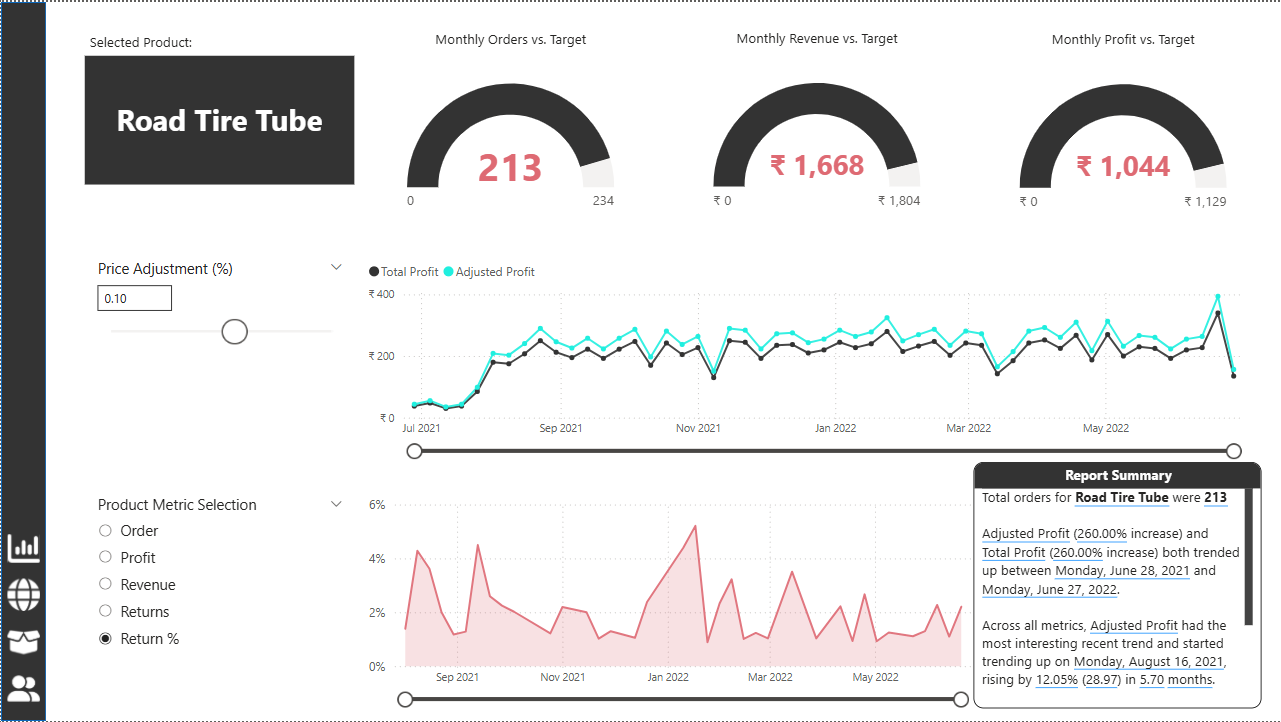

The dashboard page shown, as its layout file describes it:
{"tool":"powerbi","page":{"name":"Product Detail","canvas":[1280,720],"ordinal":2},"visuals":[{"type":"shape","box":[0,0,45,720],"z":0},{"type":"actionButton","box":[0,526.4,45.4,40.5],"z":0,"group":"g1"},{"type":"gauge","title":"Monthly Orders vs. Target","fields":{"Y":["Measure Table.Total Order"],"MaxValue":["Measure Table.Order Target"]},"box":[401.2,27,217.2,222.1],"z":1000},{"type":"actionButton","box":[0,573,45.4,40.5],"z":1000,"group":"g1"},{"type":"gauge","title":"Monthly Revenue vs. Target","fields":{"Y":["Measure Table.Total Revenue"],"MaxValue":["Measure Table.Target Revenue"]},"box":[707.4,26.7,217.2,223.3],"z":2000},{"type":"actionButton","box":[0,619.7,45.4,40.5],"z":2000,"group":"g1"},{"type":"gauge","title":"Monthly Profit vs. Target","fields":{"Y":["Measure Table.Total Profit"],"MaxValue":["Measure Table.Profit Target"]},"box":[1013.5,27,217.2,223.3],"z":3000},{"type":"actionButton","box":[0,666.3,45.4,40.5],"z":3000,"group":"g1"},{"type":"lineChart","title":"Profit Trending","fields":{"Category":["Calendar Lookup.Date Hierarchy.Start of Year","Calendar Lookup.Date Hierarchy.Start of Month","Calendar Lookup.Date Hierarchy.Start of Week","Calendar Lookup.Date Hierarchy.Date"],"Y":["Measure Table.Total Profit","Measure Table.Adjusted Profit"]},"box":[362,250.3,899.4,209.8],"z":4000},{"type":"areaChart","title":"Return Trending","fields":{"Y":["Measure Table.Return Rate"],"Category":["Calendar Lookup.Date Hierarchy.Start of Year","Calendar Lookup.Date Hierarchy.Start of Month","Calendar Lookup.Date Hierarchy.Start of Week","Calendar Lookup.Date Hierarchy.Date"]},"box":[362,488.3,627,219.6],"z":5000},{"type":"card","fields":{"Values":["Min(Product Lookup.ProductName)"]},"box":[83.4,54,269.9,128.8],"z":6000},{"type":"textbox","box":[83.8,26.2,150,27.5],"z":7000},{"type":"slicer","fields":{"Values":["Price Adjustment (%).Price Adjustment (%)"]},"box":[83.8,251.2,270,150],"z":8000},{"type":"slicer","fields":{"Values":["Product Metric Selection.Product Metric Selection"]},"box":[83.8,487.5,270,221.2],"z":9000},{"type":"group","id":"g1","title":"Navigation Buttons","box":[0,526.4,45.4,180.4],"z":10000},{"type":"textbox","title":"Report Summary","box":[973,460.1,288.3,246.6],"z":11000}]}

Visuals, with their boxes on the page's 1280x720 design canvas (x1, y1, x2, y2). These are canvas units, not pixel positions in the 1281x722 screenshot, which may show the page scaled, cropped or inside an application window:
shape: <bbox>0, 0, 45, 720</bbox>
actionButton: <bbox>0, 526, 45, 567</bbox>
"Monthly Orders vs. Target" gauge: <bbox>401, 27, 618, 249</bbox>
actionButton: <bbox>0, 573, 45, 614</bbox>
"Monthly Revenue vs. Target" gauge: <bbox>707, 27, 925, 250</bbox>
actionButton: <bbox>0, 620, 45, 660</bbox>
"Monthly Profit vs. Target" gauge: <bbox>1014, 27, 1231, 250</bbox>
actionButton: <bbox>0, 666, 45, 707</bbox>
"Profit Trending" lineChart: <bbox>362, 250, 1261, 460</bbox>
"Return Trending" areaChart: <bbox>362, 488, 989, 708</bbox>
card - Min(Product Lookup.ProductName): <bbox>83, 54, 353, 183</bbox>
textbox: <bbox>84, 26, 234, 54</bbox>
slicer - Price Adjustment (%).Price Adjustment (%): <bbox>84, 251, 354, 401</bbox>
slicer - Product Metric Selection.Product Metric Selection: <bbox>84, 488, 354, 709</bbox>
"Navigation Buttons" group: <bbox>0, 526, 45, 707</bbox>
"Report Summary" textbox: <bbox>973, 460, 1261, 707</bbox>
